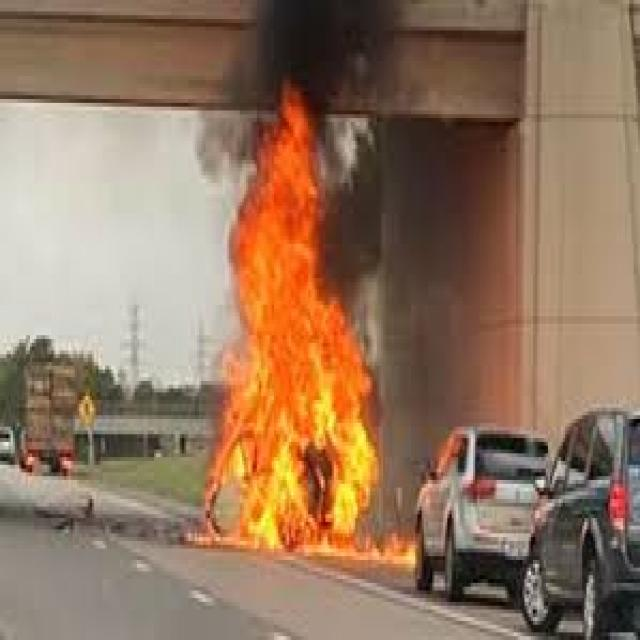fire: (182, 88, 409, 575)
smoke: (195, 4, 394, 297)
